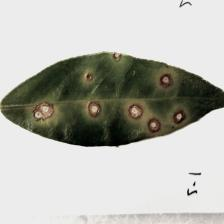canker: (32, 60, 187, 143)
